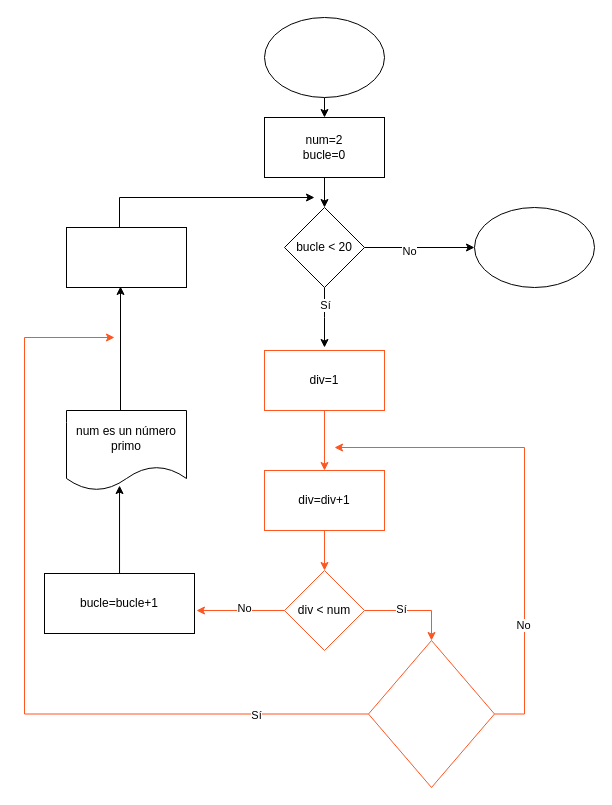
Some shapes in this 612 by 805 pixel diagram are drawn without their labels. The shapes that lost their labels are listed below. From the top down, each one's centre as x and y in pixels, then its label:
At point (324, 57): "INICIO".
At point (126, 257): "num=num+1".
At point (534, 247): "FIN".
At point (431, 714): "resto num/div = 0".
